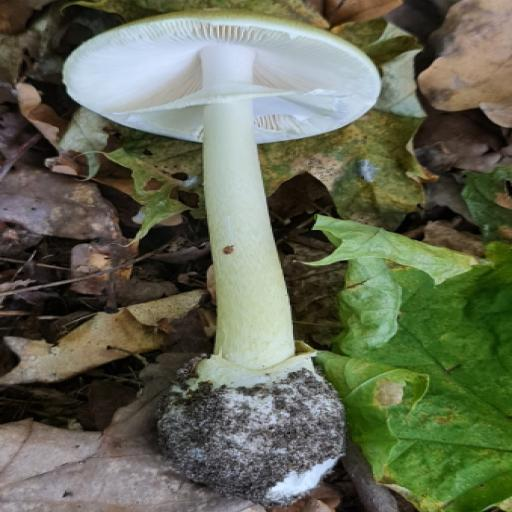mushroom: (0, 0, 393, 385)
